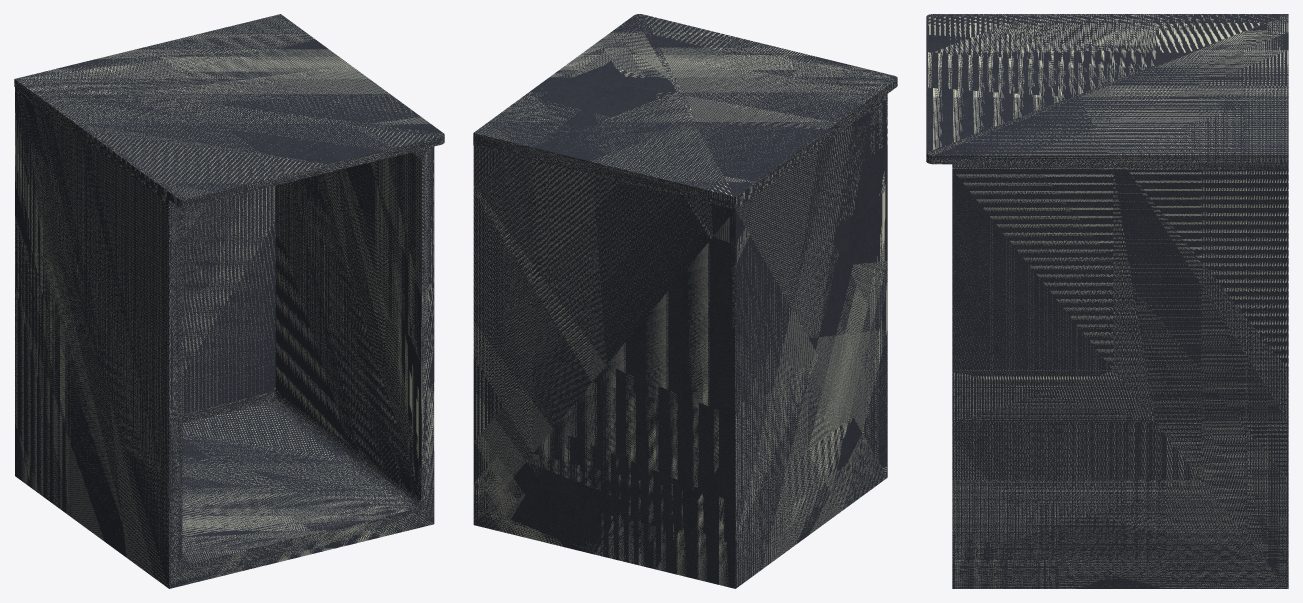
File: original-4.obj
3 views of the same model, side by side, from view 1: azimuth 30°, elevation 25°; view 2: azimuth 150°, elevation 25°; view 3: azimuth 270°, elevation 25° (orthographic). The views are drawn at different scales.
Visible parts, largest first — view 1: mesh6/mesh6-geometry#mesh6-geometry; view 2: mesh6/mesh6-geometry#mesh6-geometry; view 3: mesh6/mesh6-geometry#mesh6-geometry.
Part boxes in pixels (<box>): mesh6/mesh6-geometry#mesh6-geometry: <box>14,14,444,588</box>; mesh6/mesh6-geometry#mesh6-geometry: <box>473,14,897,588</box>; mesh6/mesh6-geometry#mesh6-geometry: <box>926,14,1288,588</box>.
Bounding box in the file's own units: 0.9653 × 1.38 × 1.04.
